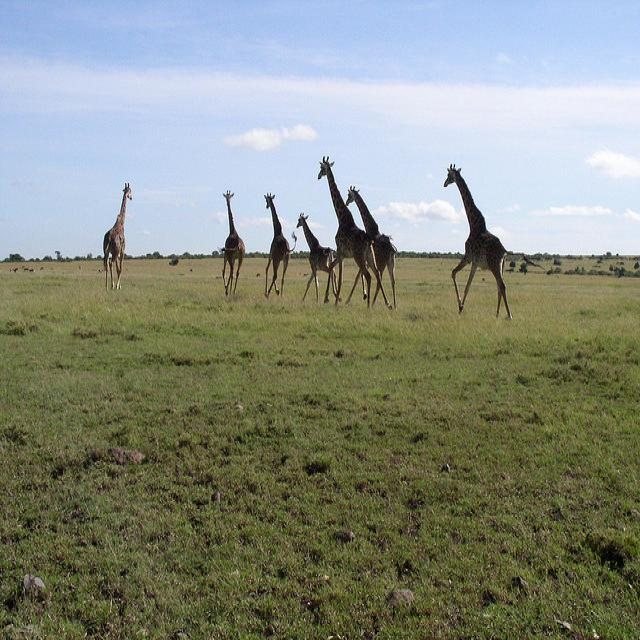giraffe: (444, 164, 541, 320), (318, 154, 393, 309), (347, 187, 397, 307), (296, 212, 343, 303), (264, 193, 297, 299), (103, 182, 132, 291), (220, 189, 245, 296)
